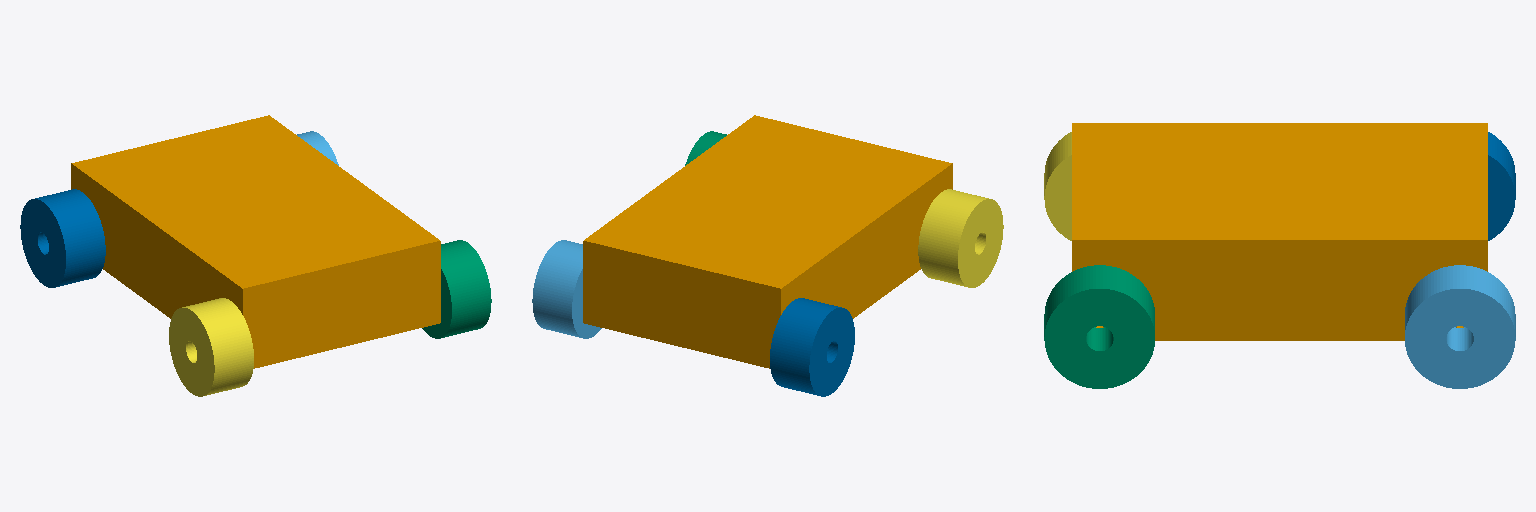
The robot description file, URDF, robot "test2":
<?xml version='1.0' encoding='utf-8'?>
<robot name="test2">
    <link name="base_link">
        <inertial>
            <origin xyz="0.025 0.0375 0.01013441876905105" rpy="0.0 0.0 0.0" />
            <mass value="0.5733365610433244" />
            <inertia ixx="0.000278877255356927" iyy="0.0001386503381326861" izz="0.00037911715099229245" ixy="0.0" iyz="-8.131516293641283e-20" ixz="0.0" />
        </inertial>
        <visual name="base_link_visual">
            <origin xyz="0.0 0.0 0.0" rpy="0.0 0.0 0.0" />
            <geometry>
                <mesh filename="meshes/base_link.stl" scale="0.001 0.001 0.001" />
            </geometry>
        </visual>
        <collision name="base_link_collision">
            <origin xyz="0.0 0.0 0.0" rpy="0.0 0.0 0.0" />
            <geometry>
                <mesh filename="meshes/base_link.stl" scale="0.001 0.001 0.001" />
            </geometry>
        </collision>
    </link>
    <link name="roda1">
        <inertial>
            <origin xyz="-1.7426060594516458e-14 -1.7763568394002505e-17 -0.005" rpy="0.0 -0.0 0.0" />
            <mass value="0.023120158435012316" />
            <inertia ixx="8.067971958551244e-07" iyy="8.067971952329414e-07" izz="1.228258417171243e-06" ixy="5.082197683525802e-21" iyz="2.710505431213761e-20" ixz="0.0" />
        </inertial>
        <visual name="roda1_visual">
            <origin xyz="-0.025 -0.125 -0.01" rpy="0.0 -0.0 0.0" />
            <geometry>
                <mesh filename="meshes/roda1.stl" scale="0.001 0.001 0.001" />
            </geometry>
        </visual>
        <collision name="roda1_collision">
            <origin xyz="-0.025 -0.125 -0.01" rpy="0.0 -0.0 0.0" />
            <geometry>
                <mesh filename="meshes/roda1.stl" scale="0.001 0.001 0.001" />
            </geometry>
        </collision>
    </link>
    <link name="roda2">
        <inertial>
            <origin xyz="-1.744382416291046e-14 -1.7763568394002505e-17 -0.005" rpy="0.0 -0.0 0.0" />
            <mass value="0.023120158435012316" />
            <inertia ixx="8.067971958551244e-07" iyy="8.067971952329956e-07" izz="1.2282584171712612e-06" ixy="-8.50209320806504e-20" iyz="-8.470329472543003e-22" ixz="-1.6940658945086007e-21" />
        </inertial>
        <visual name="roda2_visual">
            <origin xyz="-0.055 -0.125 -0.01" rpy="0.0 -0.0 0.0" />
            <geometry>
                <mesh filename="meshes/roda2.stl" scale="0.001 0.001 0.001" />
            </geometry>
        </visual>
        <collision name="roda2_collision">
            <origin xyz="-0.055 -0.125 -0.01" rpy="0.0 -0.0 0.0" />
            <geometry>
                <mesh filename="meshes/roda2.stl" scale="0.001 0.001 0.001" />
            </geometry>
        </collision>
    </link>
    <link name="roda3">
        <inertial>
            <origin xyz="1.7426060594516458e-14 1.7763568394002505e-17 -0.005" rpy="0.0 -0.0 0.0" />
            <mass value="0.023120158435012316" />
            <inertia ixx="8.067971958550585e-07" iyy="8.067971952329397e-07" izz="1.2282584171711483e-06" ixy="6.45862622281404e-21" iyz="1.0587911840678754e-21" ixz="-3.1763735522036263e-22" />
        </inertial>
        <visual name="roda3_visual">
            <origin xyz="0.025000000000000015 0.1 -0.01" rpy="0.0 -0.0 3.141592653589793" />
            <geometry>
                <mesh filename="meshes/roda3.stl" scale="0.001 0.001 0.001" />
            </geometry>
        </visual>
        <collision name="roda3_collision">
            <origin xyz="0.025000000000000015 0.1 -0.01" rpy="0.0 -0.0 3.141592653589793" />
            <geometry>
                <mesh filename="meshes/roda3.stl" scale="0.001 0.001 0.001" />
            </geometry>
        </collision>
    </link>
    <link name="roda4">
        <inertial>
            <origin xyz="-1.744382416291046e-14 1.7763568394002505e-17 0.005" rpy="0.0 -0.0 0.0" />
            <mass value="0.023120158435012316" />
            <inertia ixx="8.067971958550837e-07" iyy="8.067971952329882e-07" izz="1.228258417171148e-06" ixy="3.8963515573697816e-20" iyz="-1.6940658945086007e-21" ixz="3.0704944337968387e-21" />
        </inertial>
        <visual name="roda4_visual">
            <origin xyz="-0.055 0.1 0.01" rpy="3.141592653589793 -0.0 0.0" />
            <geometry>
                <mesh filename="meshes/roda4.stl" scale="0.001 0.001 0.001" />
            </geometry>
        </visual>
        <collision name="roda4_collision">
            <origin xyz="-0.055 0.1 0.01" rpy="3.141592653589793 -0.0 0.0" />
            <geometry>
                <mesh filename="meshes/roda4.stl" scale="0.001 0.001 0.001" />
            </geometry>
        </collision>
    </link>
    <joint name="base_link_Revolucionar-1" type="continuous">
        <origin xyz="0.05 0.07 0.005" rpy="-0.0 -1.5707963267948966 0" />
        <parent link="base_link" />
        <child link="roda1" />
        <axis xyz="0.0 0.0 1.0" />
    </joint>
    <joint name="base_link_Revolucionar-2" type="continuous">
        <origin xyz="0.05 0.005 0.005" rpy="-0.0 -1.5707963267948966 0" />
        <parent link="base_link" />
        <child link="roda2" />
        <axis xyz="0.0 0.0 1.0" />
    </joint>
    <joint name="base_link_Revolucionar-3" type="continuous">
        <origin xyz="0.0 0.07 0.005" rpy="-0.0 -1.5707963267948966 0" />
        <parent link="base_link" />
        <child link="roda4" />
        <axis xyz="0.0 0.0 1.0" />
    </joint>
    <joint name="base_link_Revolucionar-4" type="continuous">
        <origin xyz="0.0 0.005 0.005" rpy="-3.141592653589793 -1.5707963267948966 0" />
        <parent link="base_link" />
        <child link="roda3" />
        <axis xyz="0.0 0.0 1.0" />
    </joint>
</robot>

--- Render facts (derived) ---
Views: 3 orthographic renders of the robot side by side, from view 1: azimuth 30°, elevation 25°; view 2: azimuth 150°, elevation 25°; view 3: azimuth 270°, elevation 25°.
Robot: test2 — 5 links, 4 joints (4 continuous); root link base_link; default pose: all joints at 0.
Links seen in each view (by area): view 1: base_link, roda3, roda4, roda2; view 2: base_link, roda4, roda3, roda1; view 3: base_link, roda1, roda2, roda3, roda4.
Boxes of the visible links, left/top/right/bottom form: base_link: left=71, top=115, right=440, bottom=368; roda3: left=169, top=298, right=253, bottom=396; roda4: left=20, top=189, right=105, bottom=287; roda2: left=422, top=240, right=491, bottom=338; base_link: left=583, top=115, right=952, bottom=368; roda4: left=770, top=298, right=854, bottom=396; roda3: left=918, top=189, right=1003, bottom=287; roda1: left=532, top=240, right=601, bottom=338; base_link: left=1072, top=123, right=1487, bottom=340; roda1: left=1405, top=265, right=1515, bottom=388; roda2: left=1044, top=265, right=1154, bottom=388; roda3: left=1044, top=132, right=1071, bottom=240; roda4: left=1488, top=132, right=1515, bottom=240.
Bounding box of the posed robot: 0.07 × 0.085 × 0.025 m (x, y, z).
5 mesh visuals loaded from 5 distinct referenced files (5 binary STL).
